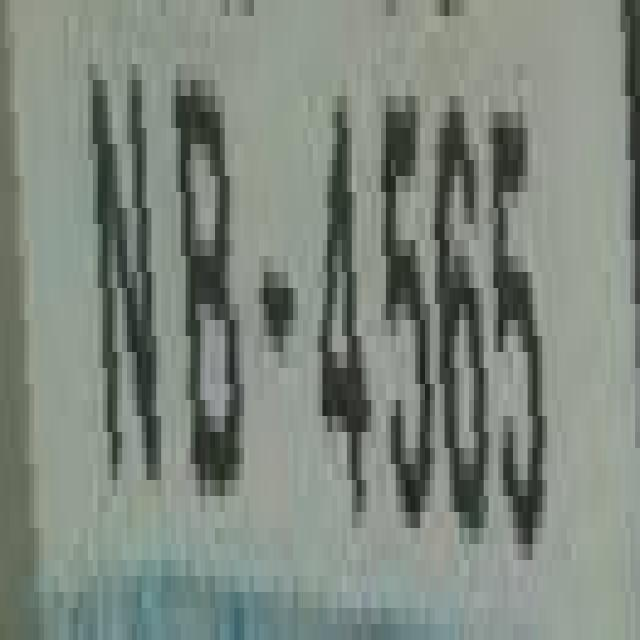licence-plate: (5, 0, 640, 624)
